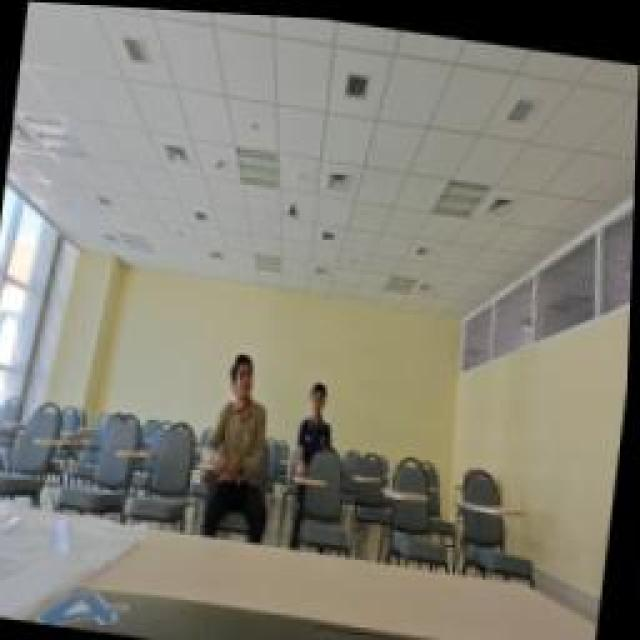study: (195, 327, 290, 545), (290, 365, 345, 485)
